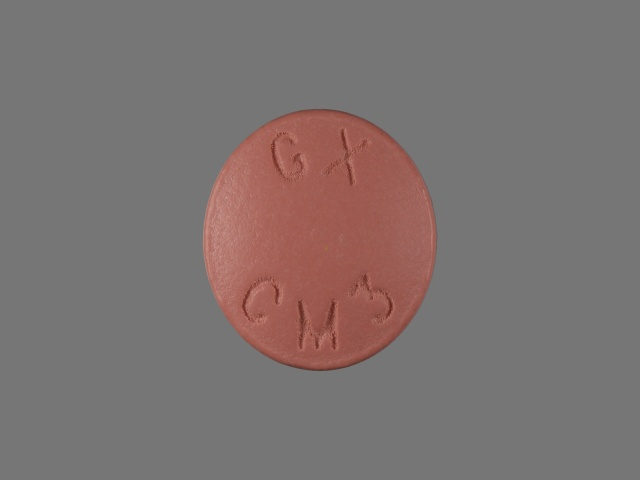3: (345, 269, 397, 326)
C: (237, 275, 284, 328)
G: (264, 126, 316, 185)
M: (292, 295, 344, 356)
X: (319, 127, 371, 190)
